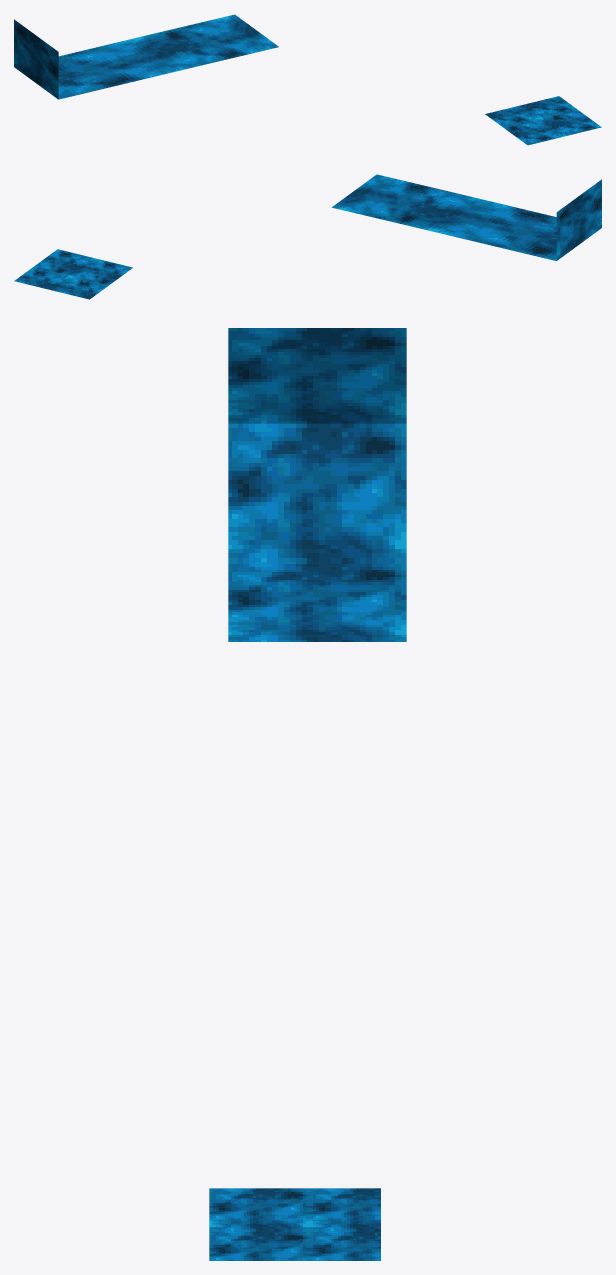
Rendered from PelagicIIExploration_Alpha_82.glb.
3 views of the same model, one above another, from view 1: azimuth 30°, elevation 25°; view 2: azimuth 150°, elevation 25°; view 3: azimuth 270°, elevation 25° (orthographic). The views are drawn at different scales.
Visible parts, largest first — view 1: PelagicIIExploration_Alpha_82; view 2: PelagicIIExploration_Alpha_82; view 3: PelagicIIExploration_Alpha_82.
Part boxes in pixels (bbox=[...]): PelagicIIExploration_Alpha_82: bbox=[14, 14, 601, 145]; PelagicIIExploration_Alpha_82: bbox=[14, 174, 601, 299]; PelagicIIExploration_Alpha_82: bbox=[209, 328, 406, 1260].
Size of the model in its own units: 1134 by 409 by 180.
Materials: 1 (1 with a texture image).
